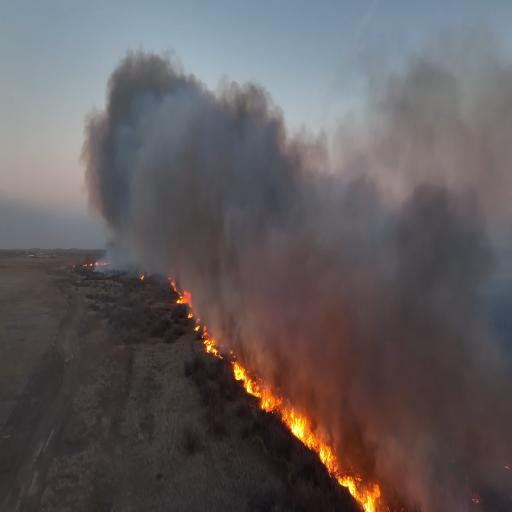fire: (268, 395, 315, 443), (314, 444, 364, 482), (234, 348, 267, 404), (345, 475, 380, 512)
smoke: (103, 64, 342, 272), (404, 23, 512, 474), (220, 180, 457, 344)
